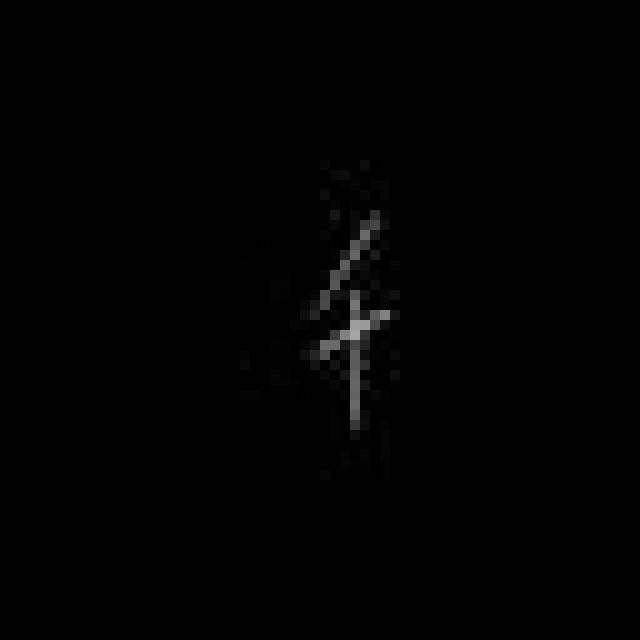1000 -a thousand-: (296, 200, 405, 439)
